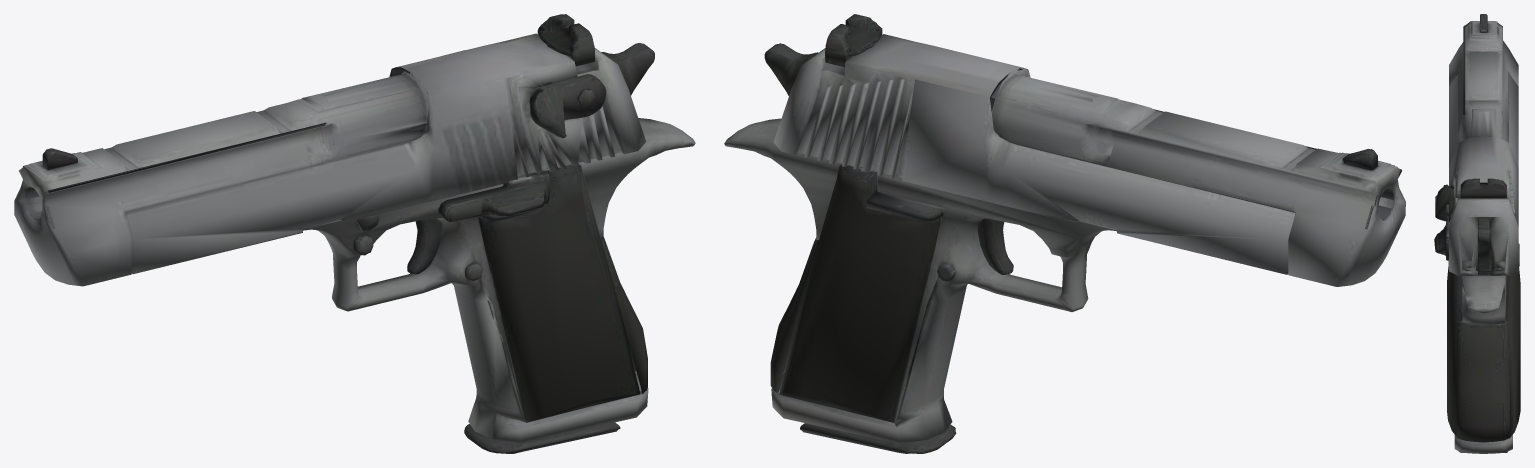
Rendered from deagle.glb.
3 views of the same model, side by side, from view 1: azimuth 30°, elevation 25°; view 2: azimuth 150°, elevation 25°; view 3: azimuth 270°, elevation 25° (orthographic). The views are drawn at different scales.
Visible parts, largest first — view 1: GEO-deagle-slide, GEO-deagle-body, GEO-deagle-barrel, GEO-deagle-magazine, GEO-deagle-hammer, GEO-deagle-slide-liner-reconstructed; view 2: GEO-deagle-slide, GEO-deagle-body, GEO-deagle-barrel, GEO-deagle-magazine, GEO-deagle-hammer; view 3: GEO-deagle-body, GEO-deagle-slide, GEO-deagle-barrel, GEO-deagle-hammer, GEO-deagle-slide-liner-reconstructed.
Part boxes in pixels (left/top/right/bottom): GEO-deagle-slide: left=14, top=14, right=646, bottom=286; GEO-deagle-body: left=303, top=118, right=695, bottom=443; GEO-deagle-barrel: left=14, top=70, right=429, bottom=238; GEO-deagle-magazine: left=464, top=414, right=620, bottom=453; GEO-deagle-hammer: left=601, top=43, right=654, bottom=95; GEO-deagle-slide-liner-reconstructed: left=21, top=67, right=547, bottom=221; GEO-deagle-slide: left=773, top=14, right=1405, bottom=286; GEO-deagle-body: left=724, top=118, right=1116, bottom=443; GEO-deagle-barrel: left=991, top=67, right=1405, bottom=238; GEO-deagle-magazine: left=800, top=423, right=956, bottom=453; GEO-deagle-hammer: left=764, top=43, right=818, bottom=95; GEO-deagle-body: left=1434, top=220, right=1520, bottom=453; GEO-deagle-slide: left=1435, top=41, right=1518, bottom=275; GEO-deagle-barrel: left=1463, top=14, right=1508, bottom=142; GEO-deagle-hammer: left=1478, top=217, right=1489, bottom=275; GEO-deagle-slide-liner-reconstructed: left=1463, top=25, right=1501, bottom=271.
Bounding box in the file's own units: 0.998 × 0.5879 × 0.1738.
Materials: 3 (1 with a texture image).
